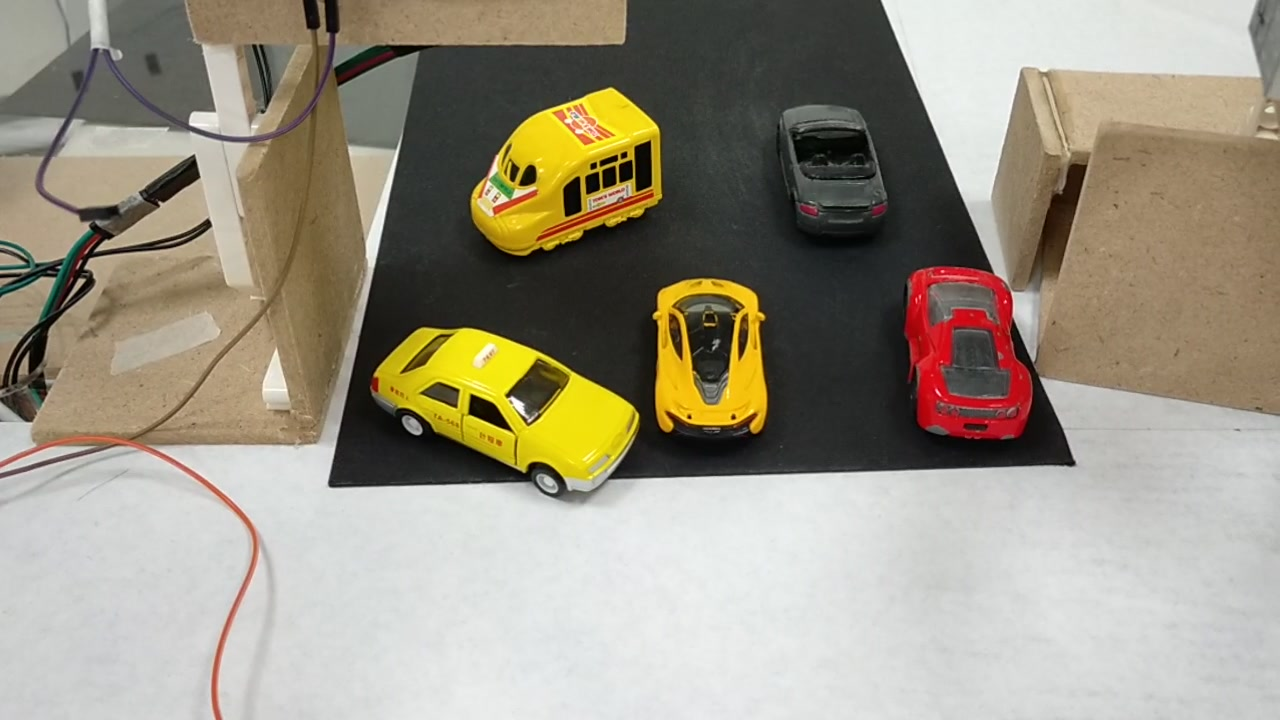car: (371, 330, 639, 500), (901, 263, 1033, 444), (647, 283, 765, 435), (776, 99, 887, 235)
